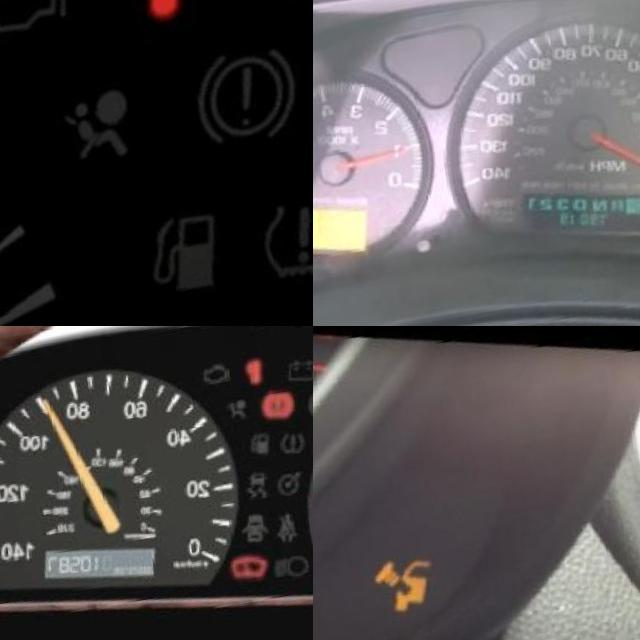Engine cooling system: (93, 0, 208, 50), (238, 366, 257, 393)
Low fuel level: (103, 185, 240, 326)
